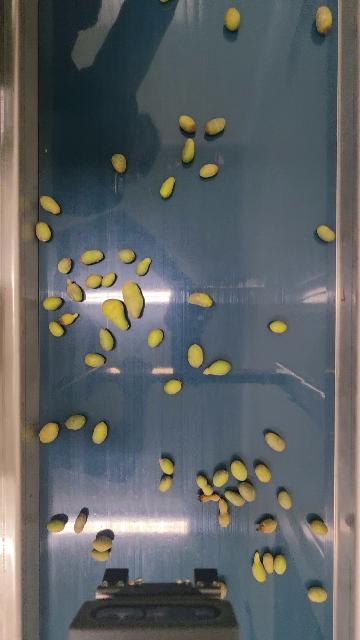Baby Potato: (101, 297, 131, 332), (121, 278, 145, 319), (315, 5, 334, 35), (203, 358, 232, 377), (264, 430, 286, 453), (223, 6, 242, 32), (39, 421, 60, 444), (188, 291, 214, 309), (39, 194, 61, 215), (204, 116, 227, 136), (187, 343, 204, 369), (217, 497, 231, 528), (180, 137, 196, 164), (237, 481, 257, 502), (231, 459, 248, 483), (252, 551, 265, 582), (98, 327, 114, 352), (224, 489, 246, 507), (66, 280, 83, 303), (92, 421, 108, 445), (159, 175, 175, 199), (80, 249, 104, 265), (309, 518, 329, 537), (307, 585, 328, 603), (254, 462, 272, 483), (35, 220, 51, 243), (317, 224, 336, 243), (178, 114, 197, 133), (212, 468, 230, 488), (65, 413, 86, 430), (147, 328, 164, 349), (110, 153, 127, 174), (256, 517, 278, 533), (84, 352, 106, 368), (136, 256, 152, 277), (92, 535, 113, 551), (273, 552, 287, 575), (43, 295, 63, 311), (277, 490, 293, 510), (199, 163, 219, 179), (46, 517, 66, 533), (262, 551, 275, 575), (73, 512, 87, 534), (164, 378, 182, 395), (59, 311, 80, 325), (196, 474, 210, 495), (159, 457, 175, 475), (117, 248, 135, 264), (85, 273, 103, 289), (269, 319, 288, 334), (101, 271, 117, 288), (48, 320, 64, 337), (57, 257, 72, 274), (159, 475, 173, 492), (92, 549, 110, 562), (197, 493, 219, 503)
